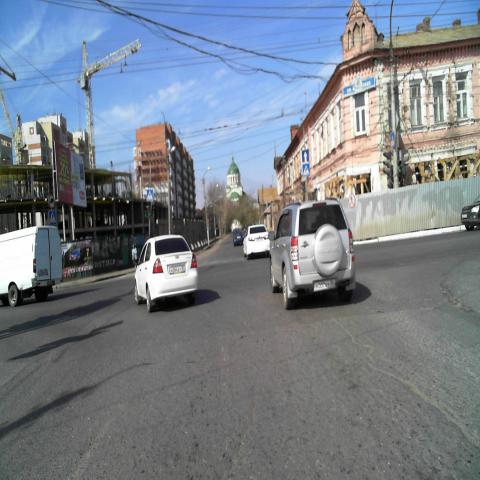3_10: (349, 192, 355, 210)
